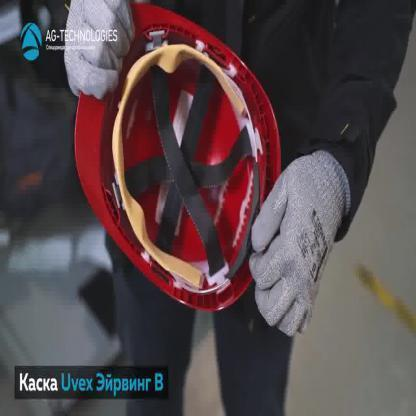gloves: (249, 142, 350, 338), (61, 0, 136, 101)
helmet: (75, 1, 284, 314)
